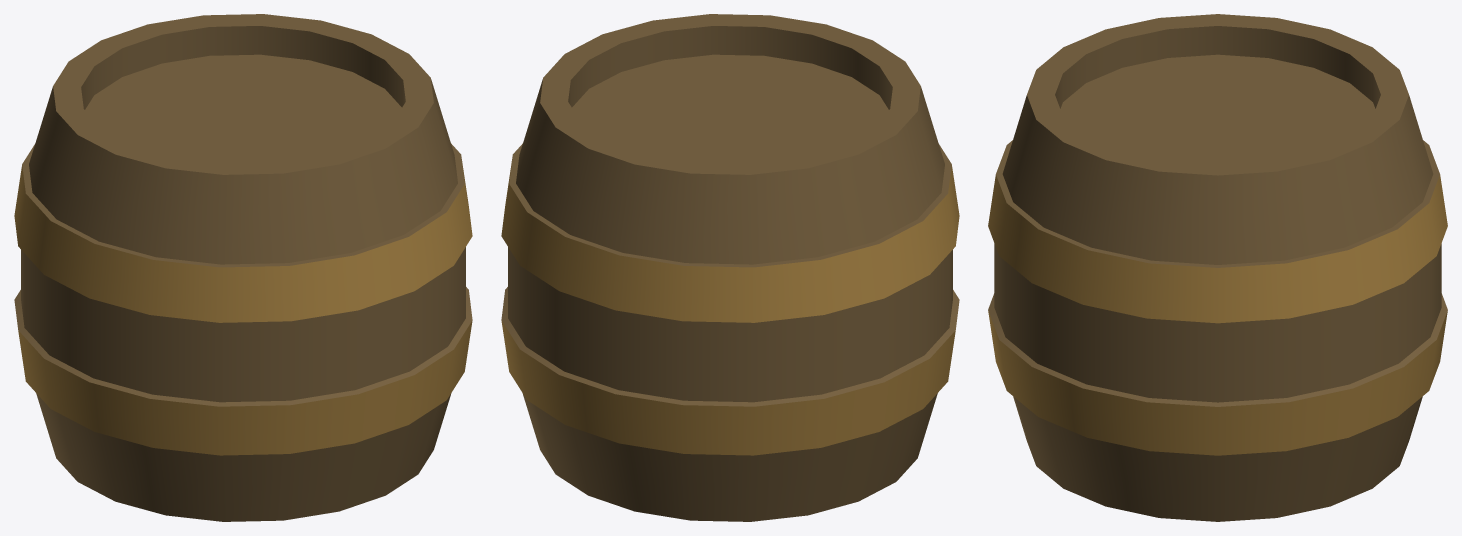
The model's file is prop_barrel_alexius.fbx.
3 renders of one model, left to right at view 1: azimuth 30°, elevation 25°; view 2: azimuth 150°, elevation 25°; view 3: azimuth 270°, elevation 25°, orthographic.
Parts seen in each view (by area): view 1: prop_barrel_alexius; view 2: prop_barrel_alexius; view 3: prop_barrel_alexius.
Boxes of the visible parts, bbox=[...] form: prop_barrel_alexius: bbox=[14, 14, 472, 521]; prop_barrel_alexius: bbox=[501, 14, 959, 521]; prop_barrel_alexius: bbox=[988, 14, 1447, 521].
Size of the model in its own units: 2.41 by 2 by 2.41.
